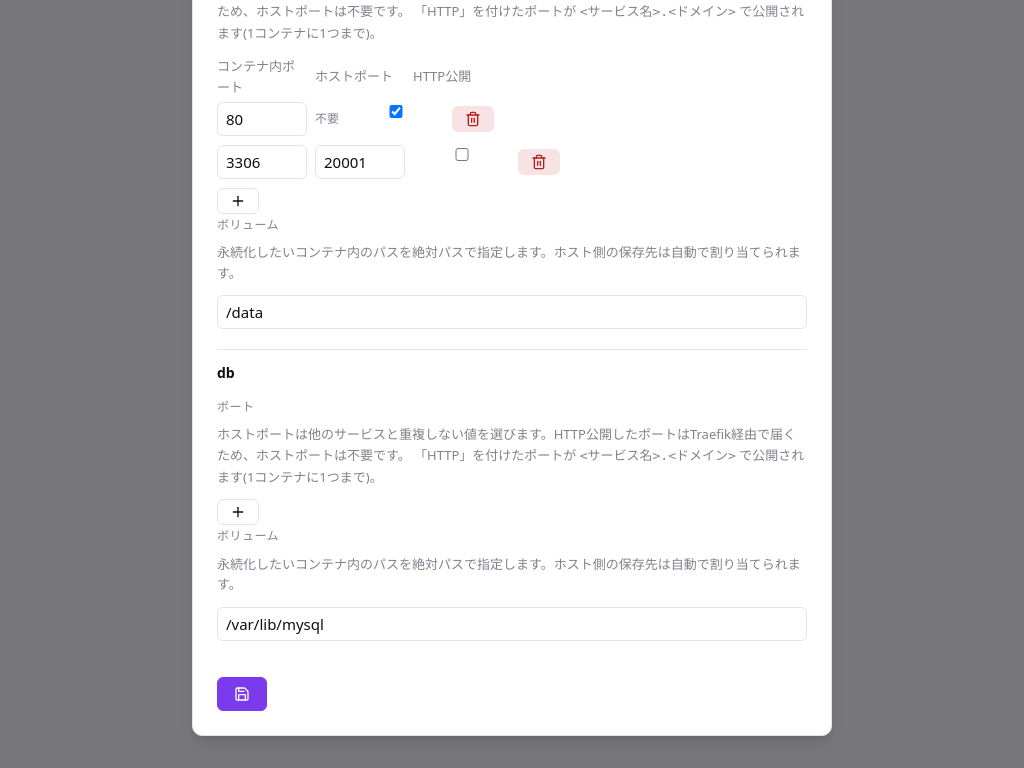
Test: PortsEditModal › 保存が失敗しても、フィールド情報が無ければ汎用のメッセージを出す
(page scrolled)
Step 1. Click the button named "保存" → [242, 694], box [217, 677, 267, 711]
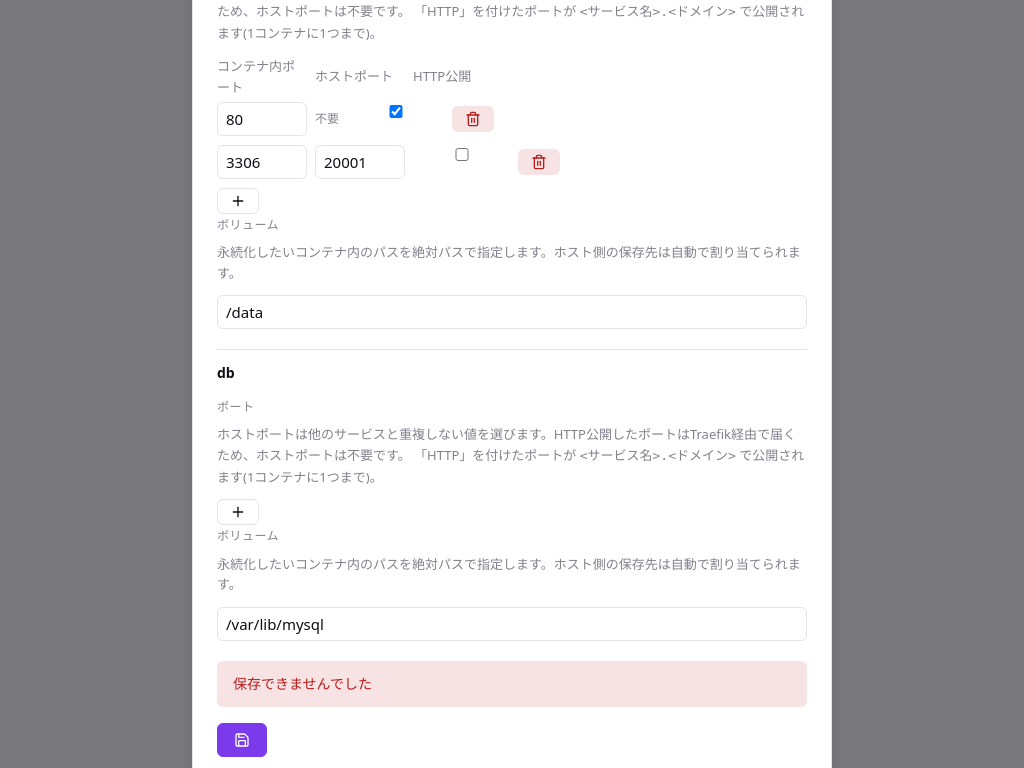
expect the message reads "保存できませんでした": met, box [233, 674, 372, 693]
